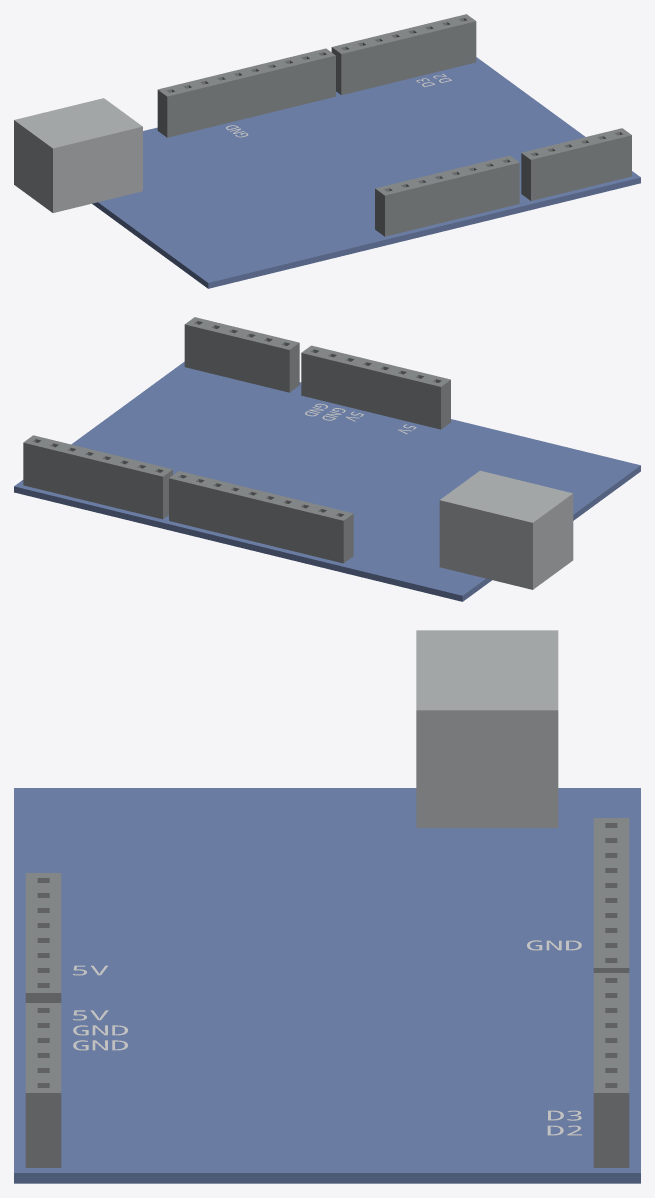
Rendered from Arduino.glb.
The picture shows the model from 3 angles, top to bottom: view 1: azimuth 30°, elevation 25°; view 2: azimuth 150°, elevation 25°; view 3: azimuth 270°, elevation 25°; orthographic projection. The views are drawn at different scales.
Parts seen in each view (by area): view 1: Mesh_Mesh_head_geo.001_lambert2SG.001; view 2: Mesh_Mesh_head_geo.001_lambert2SG.001; view 3: Mesh_Mesh_head_geo.001_lambert2SG.001.
Boxes of the visible parts, x1=… form: Mesh_Mesh_head_geo.001_lambert2SG.001: x1=14, y1=14, x2=640, y2=288; Mesh_Mesh_head_geo.001_lambert2SG.001: x1=14, y1=317, x2=640, y2=601; Mesh_Mesh_head_geo.001_lambert2SG.001: x1=14, y1=630, x2=640, y2=1183.
Bounding box in the file's own units: 85 × 12 × 53.
